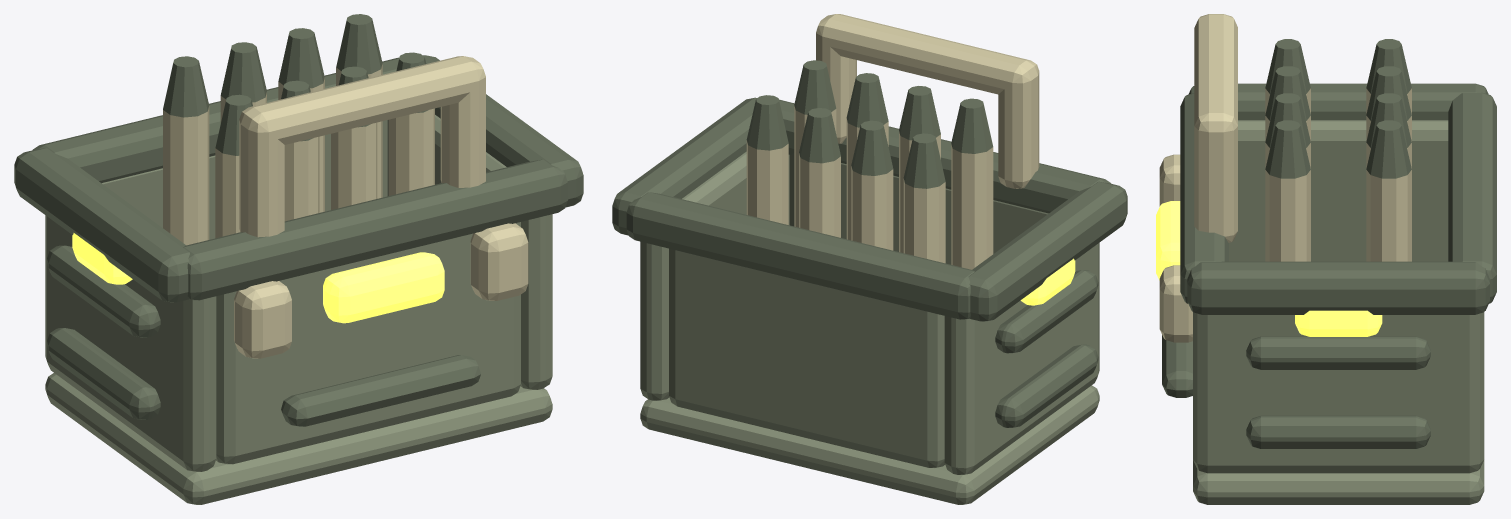
Rendered from pickup_ammo_box.glb.
3 views of the same model, side by side, from view 1: azimuth 30°, elevation 25°; view 2: azimuth 150°, elevation 25°; view 3: azimuth 270°, elevation 25° (orthographic). The views are drawn at different scales.
Parts seen in each view (by area): view 1: pickup_ammo_box_wall_f, pickup_ammo_box_rim_f, pickup_ammo_box_wall_l, pickup_ammo_box_floor, pickup_ammo_box_rim_l, pickup_ammo_box_handle_bar, pickup_ammo_box_stencil, pickup_ammo_box_badge, pickup_ammo_box_rim_b, pickup_ammo_box_round_r10, pickup_ammo_box_wall_r, pickup_ammo_box_rib_l0 (+19 smaller); view 2: pickup_ammo_box_wall_b, pickup_ammo_box_rim_b, pickup_ammo_box_wall_l, pickup_ammo_box_floor, pickup_ammo_box_rim_l, pickup_ammo_box_handle_bar, pickup_ammo_box_wall_r, pickup_ammo_box_rim_r, pickup_ammo_box_round_r00, pickup_ammo_box_rim_f, pickup_ammo_box_handle_post_l, pickup_ammo_box_rib_l0 (+19 smaller); view 3: pickup_ammo_box_wall_r, pickup_ammo_box_wall_l, pickup_ammo_box_rim_r, pickup_ammo_box_floor, pickup_ammo_box_rim_b, pickup_ammo_box_rib_r0, pickup_ammo_box_rib_r1, pickup_ammo_box_handle_bar, pickup_ammo_box_rim_l, pickup_ammo_box_handle_post_r, pickup_ammo_box_round_r03, pickup_ammo_box_round_r13 (+14 smaller).
Boxes of the visible parts, x1,y1,x2,y2 form: pickup_ammo_box_wall_f: (216, 222, 520, 464); pickup_ammo_box_rim_f: (183, 159, 567, 300); pickup_ammo_box_wall_l: (45, 215, 216, 471); pickup_ammo_box_floor: (45, 373, 552, 504); pickup_ammo_box_rim_l: (14, 148, 189, 302); pickup_ammo_box_handle_bar: (239, 56, 485, 144); pickup_ammo_box_stencil: (281, 355, 480, 426); pickup_ammo_box_badge: (323, 252, 444, 323); pickup_ammo_box_rim_b: (33, 57, 399, 183); pickup_ammo_box_round_r10: (163, 106, 209, 245); pickup_ammo_box_wall_r: (387, 115, 552, 389); pickup_ammo_box_rib_l0: (47, 328, 160, 419); pickup_ammo_box_wall_b: (669, 248, 945, 467); pickup_ammo_box_rim_b: (626, 192, 974, 319); pickup_ammo_box_wall_l: (944, 243, 1099, 474); pickup_ammo_box_floor: (640, 385, 1099, 504); pickup_ammo_box_rim_l: (968, 181, 1127, 321); pickup_ammo_box_handle_bar: (816, 14, 1039, 94); pickup_ammo_box_wall_r: (640, 151, 789, 400); pickup_ammo_box_rim_r: (612, 97, 756, 235); pickup_ammo_box_round_r00: (951, 144, 993, 269); pickup_ammo_box_rim_f: (779, 99, 1110, 213); pickup_ammo_box_handle_post_l: (998, 80, 1039, 188); pickup_ammo_box_rib_l0: (995, 344, 1098, 427); pickup_ammo_box_wall_r: (1193, 312, 1484, 473); pickup_ammo_box_wall_l: (1229, 120, 1448, 261); pickup_ammo_box_rim_r: (1187, 261, 1489, 314); pickup_ammo_box_floor: (1193, 460, 1484, 504); pickup_ammo_box_rim_b: (1448, 93, 1496, 303); pickup_ammo_box_rib_r0: (1246, 415, 1430, 448); pickup_ammo_box_rib_r1: (1246, 336, 1430, 369); pickup_ammo_box_handle_bar: (1194, 14, 1237, 140); pickup_ammo_box_rim_l: (1188, 83, 1488, 120); pickup_ammo_box_handle_post_r: (1194, 134, 1237, 242); pickup_ammo_box_round_r03: (1265, 170, 1310, 261); pickup_ammo_box_round_r13: (1366, 170, 1411, 261).
Bounding box in the file's own units: 0.484 × 0.41 × 0.351.
